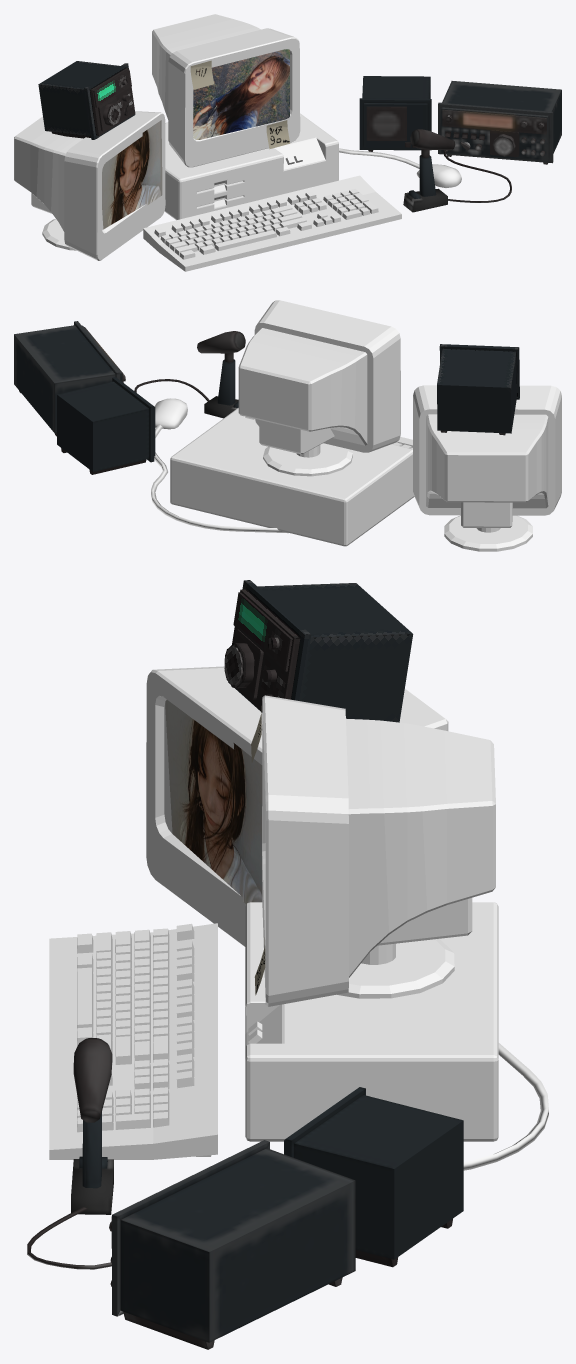
File: computer.glb
The picture shows the model from 3 angles, top to bottom: view 1: azimuth 30°, elevation 25°; view 2: azimuth 150°, elevation 25°; view 3: azimuth 270°, elevation 25°; orthographic projection. The views are drawn at different scales.
Parts seen in each view (by area): view 1: computer.002, keybord, radio_1, computer.001, computer, Empty.002, radio_2, speaker, Empty.003, stick; view 2: computer.001, computer, computer.002, radio_1, speaker, radio_2; view 3: computer.001, radio_1, computer, keybord, radio_2, speaker, computer.002, Empty.003.
Boxes of the visible parts, x1=… form: computer.002: x1=14, y1=111, x2=165, y2=260; keybord: x1=143, y1=175, x2=401, y2=271; radio_1: x1=403, y1=81, x2=561, y2=212; computer.001: x1=152, y1=14, x2=300, y2=167; computer: x1=164, y1=113, x2=461, y2=220; Empty.002: x1=193, y1=49, x2=289, y2=139; radio_2: x1=38, y1=61, x2=135, y2=139; speaker: x1=359, y1=76, x2=431, y2=151; Empty.003: x1=102, y1=120, x2=162, y2=229; stick: x1=190, y1=60, x2=290, y2=149; computer.001: x1=238, y1=300, x2=400, y2=476; computer: x1=151, y1=398, x2=414, y2=546; computer.002: x1=413, y1=385, x2=561, y2=551; radio_1: x1=14, y1=321, x2=245, y2=436; speaker: x1=57, y1=377, x2=155, y2=474; radio_2: x1=437, y1=344, x2=519, y2=435; computer.001: x1=262, y1=695, x2=495, y2=1006; radio_1: x1=27, y1=1038, x2=355, y2=1349; computer: x1=245, y1=902, x2=548, y2=1170; keybord: x1=49, y1=923, x2=217, y2=1159; radio_2: x1=224, y1=580, x2=413, y2=722; speaker: x1=284, y1=1087, x2=463, y2=1267; computer.002: x1=146, y1=666, x2=448, y2=946; Empty.003: x1=165, y1=700, x2=262, y2=904.
Bounding box in the file's own units: 2.32 × 0.7083 × 1.03.
8 materials, 6 textured.
